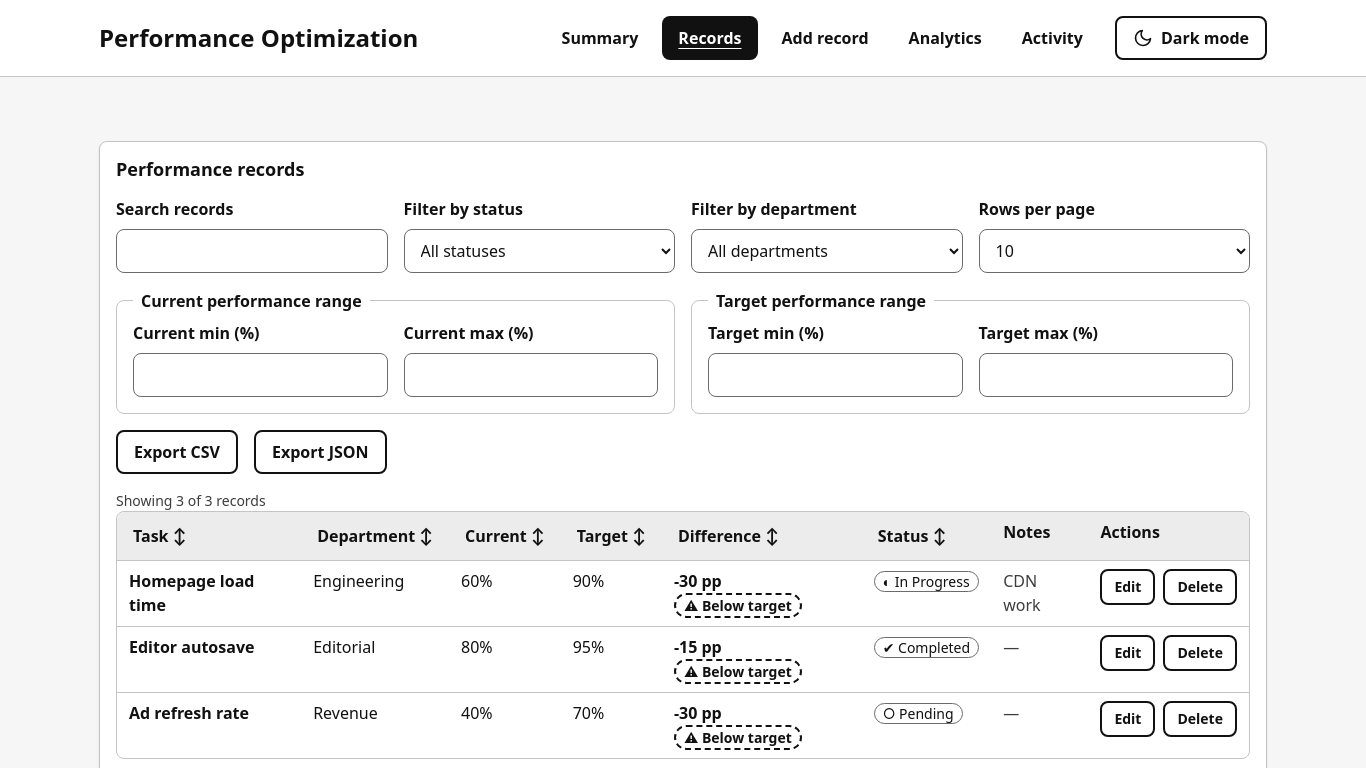
Scenario: search, filter and sort › filters by status
Expected: the column heading "Homepage load time" is shown, top-left (117, 560), bottom-right (301, 626)
Step 1. Select "Completed" in the dropdown labelled "Filter by status" → (539, 250), box top-left (404, 228), bottom-right (675, 272)
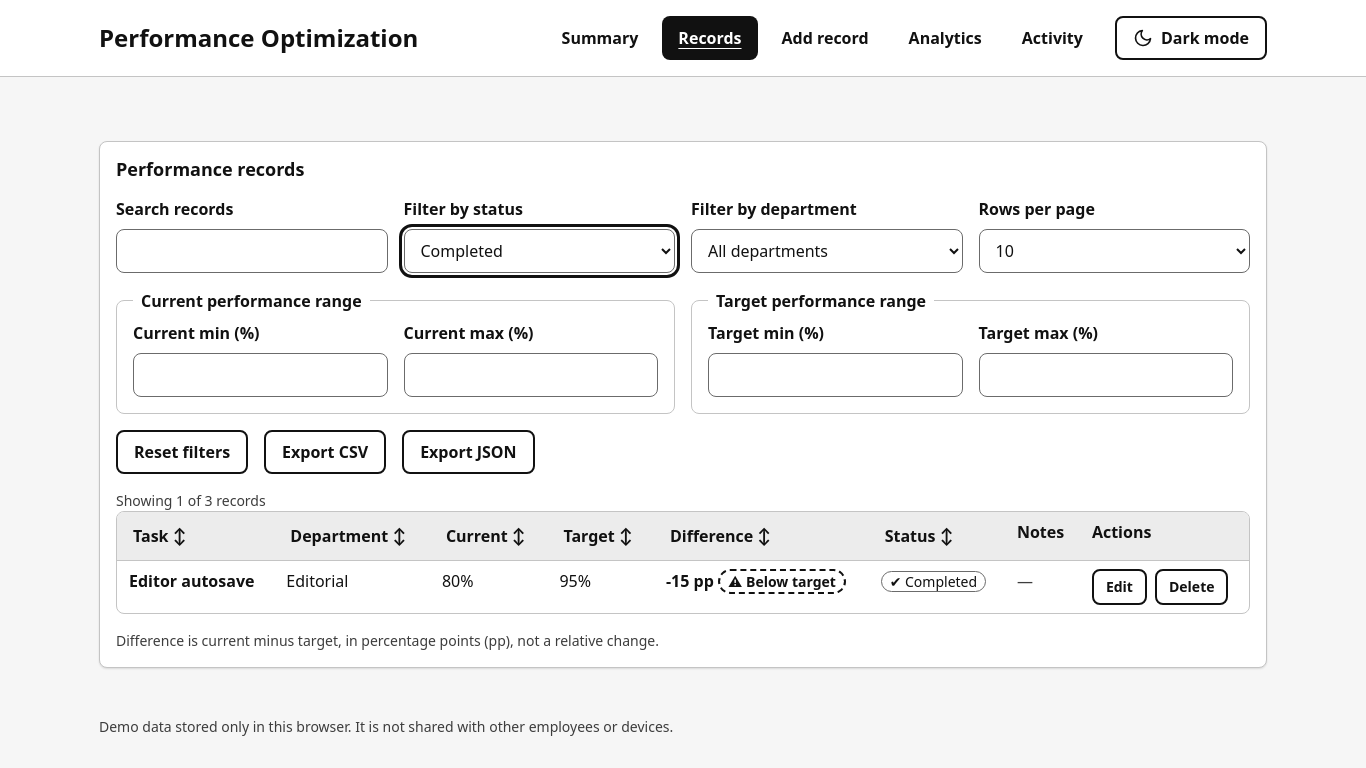
Expected: the column heading "Editor autosave" is shown, top-left (117, 560), bottom-right (274, 612)
Expected: the column heading "Ad refresh rate" is gone
